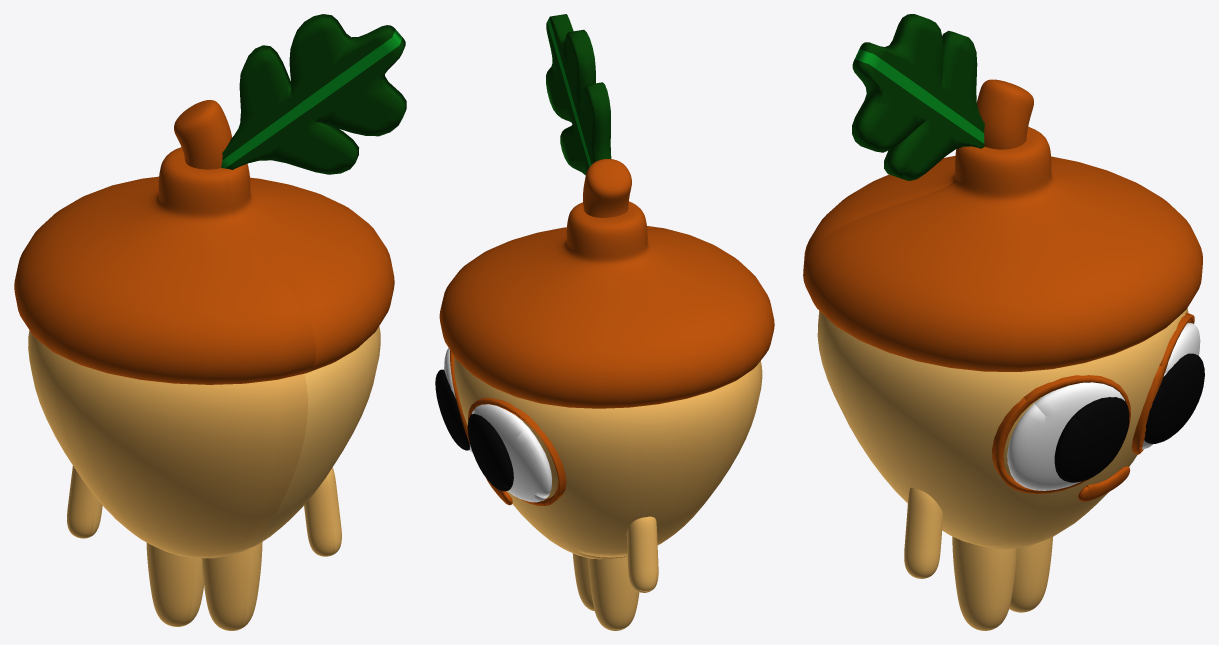
Rendered from acornChar.glb.
3 views of the same model, side by side, from view 1: azimuth 30°, elevation 25°; view 2: azimuth 150°, elevation 25°; view 3: azimuth 270°, elevation 25° (orthographic). The views are drawn at different scales.
Visible parts, largest first — view 1: Plane.002; view 2: Plane.002; view 3: Plane.002.
Boxes of the visible parts, x1,y1,x2,y2 form: Plane.002: [14, 14, 406, 630]; Plane.002: [435, 14, 774, 630]; Plane.002: [803, 14, 1204, 630].
Size of what is drawn, in the model's own units: 1.52 by 2.68 by 1.52.
Materials: 2 (1 with a texture image).
